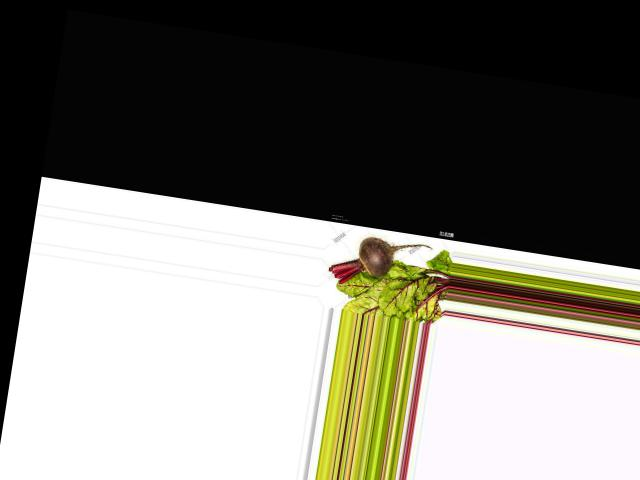beet: (326, 230, 432, 296)
